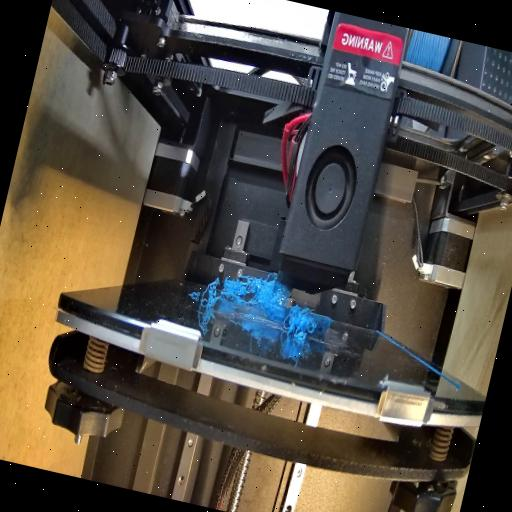spaghetti: (218, 270, 290, 319), (278, 298, 320, 340), (194, 274, 220, 320)
